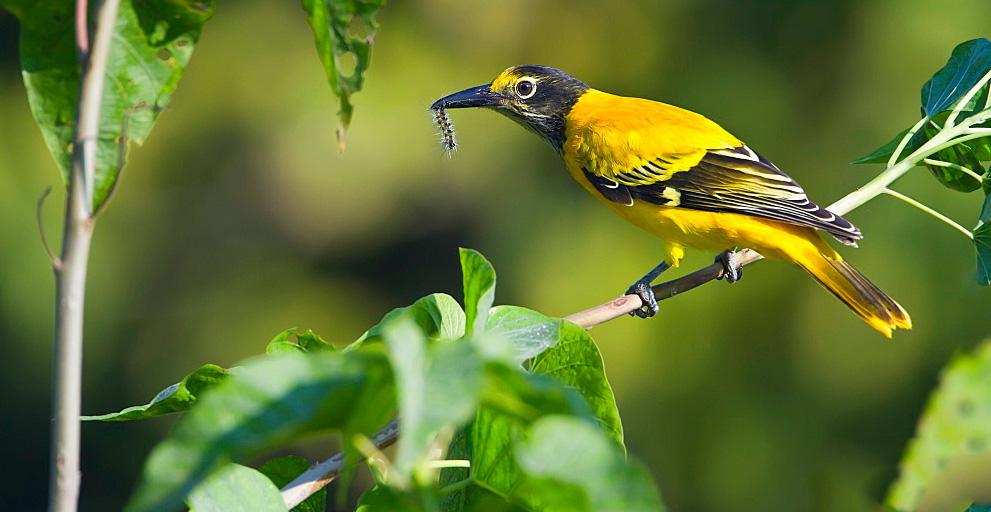bird: (430, 56, 935, 362)
